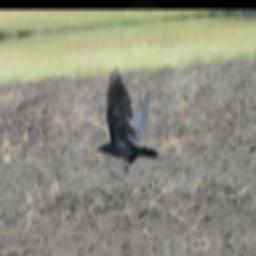Crow: (88, 59, 161, 177)
